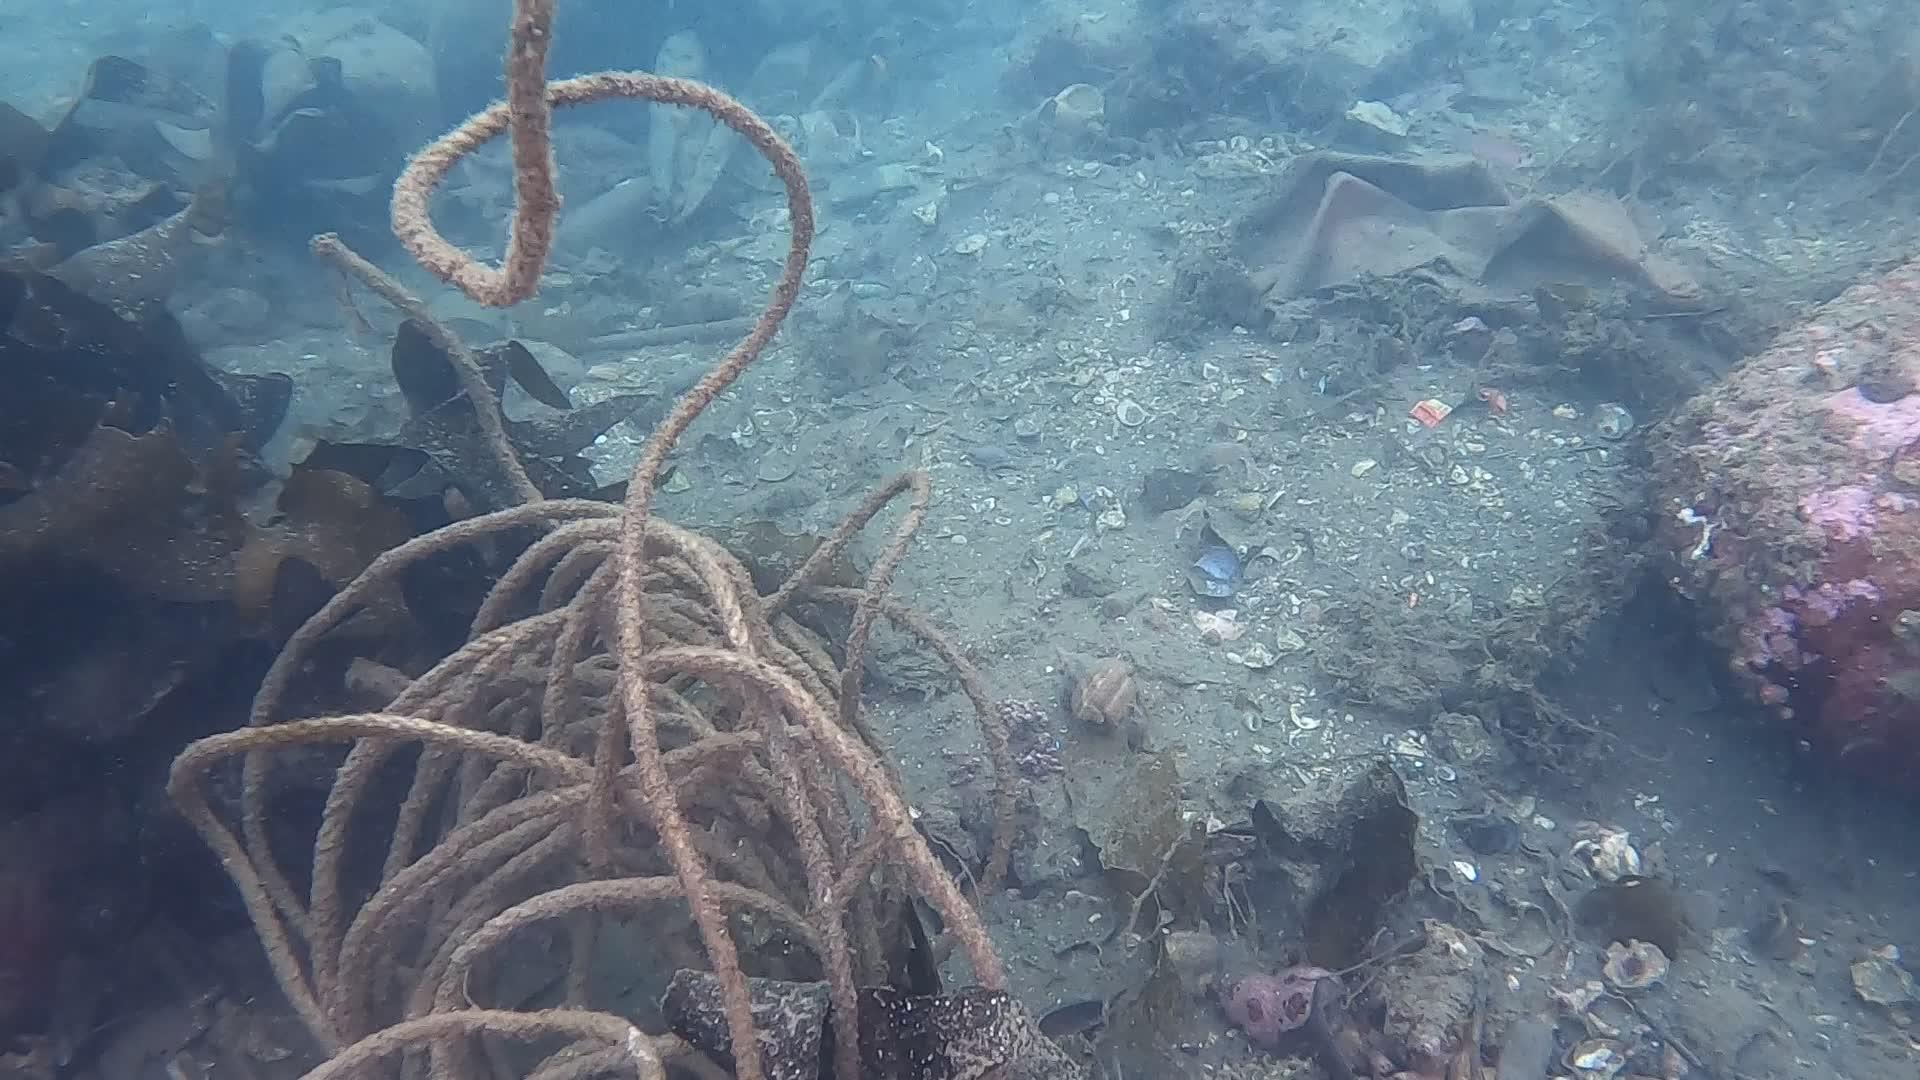bundle of ropes: (164, 0, 1019, 1080)
